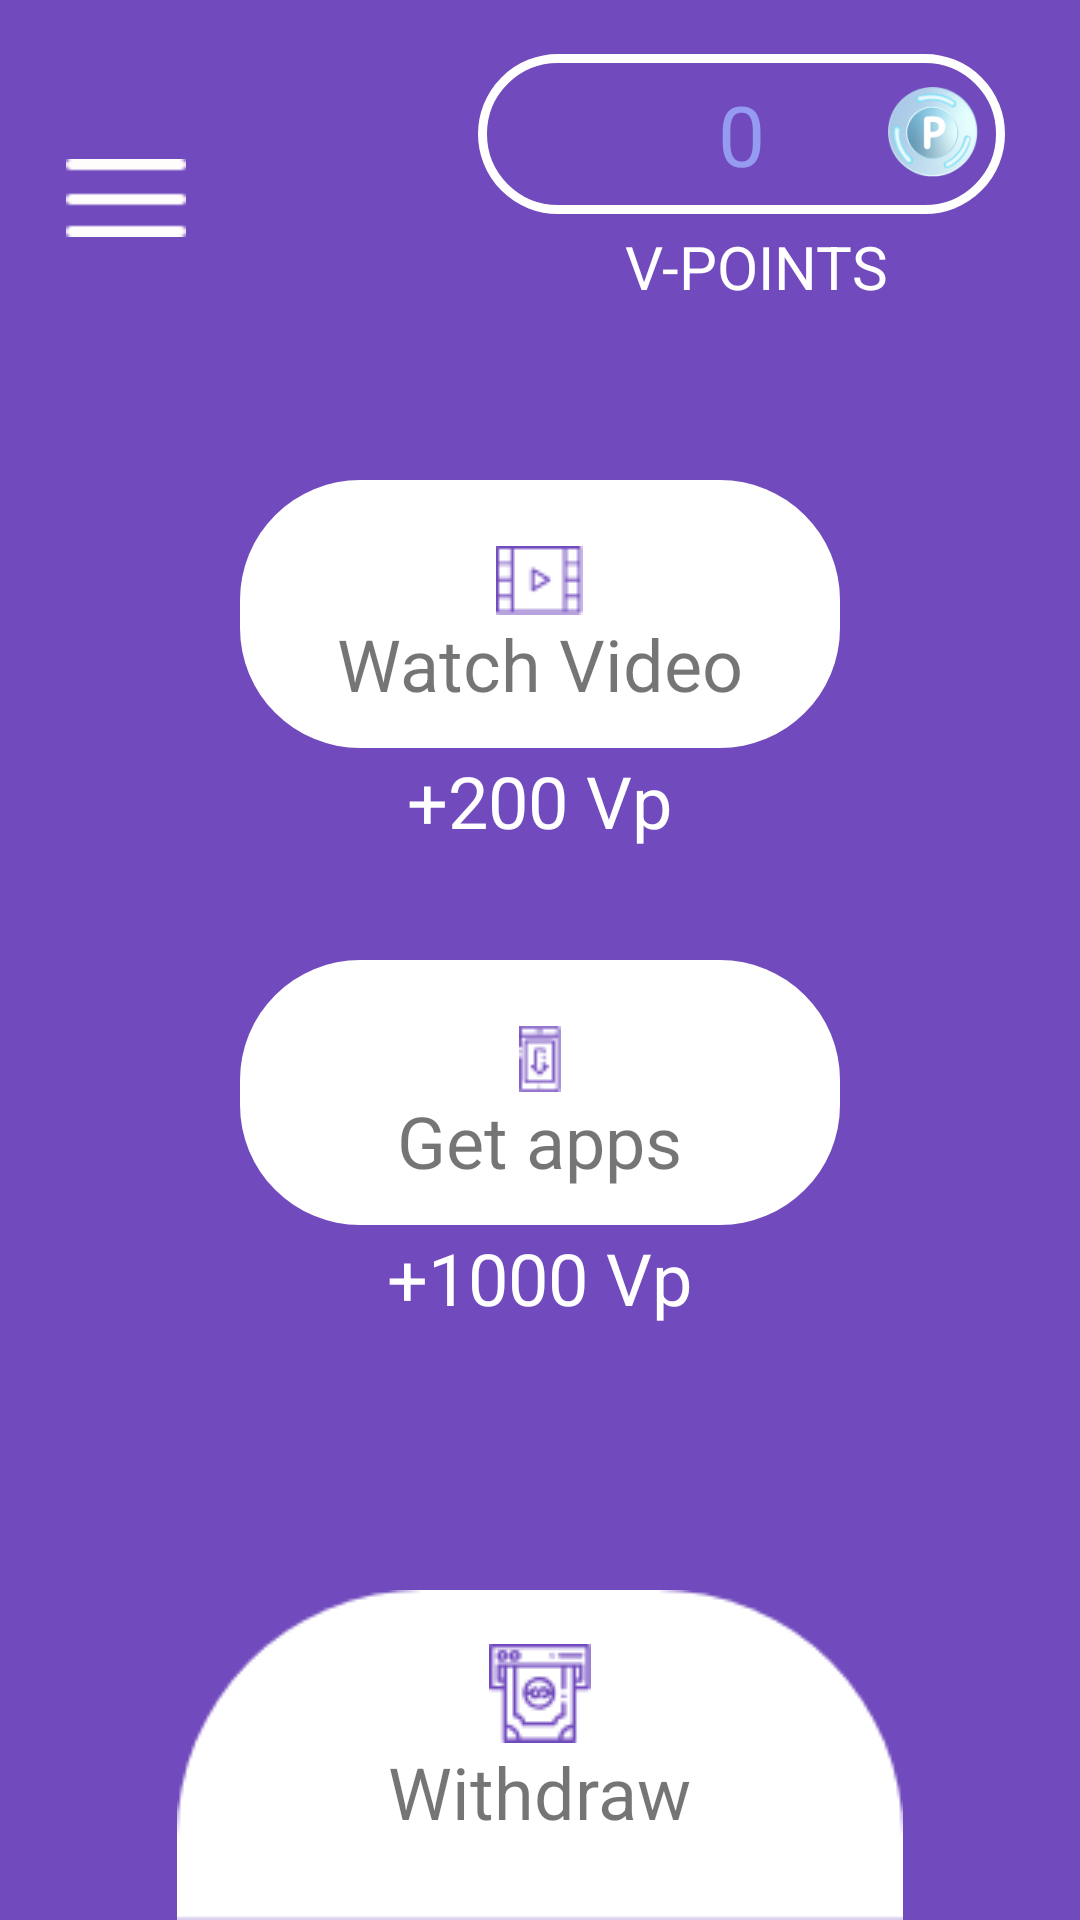

Point at icon controls on the screen. Image size 1080px×1920px, points as (x=x, y=y).
mobile: (x=540, y=1059)
navigation: (x=126, y=198)
